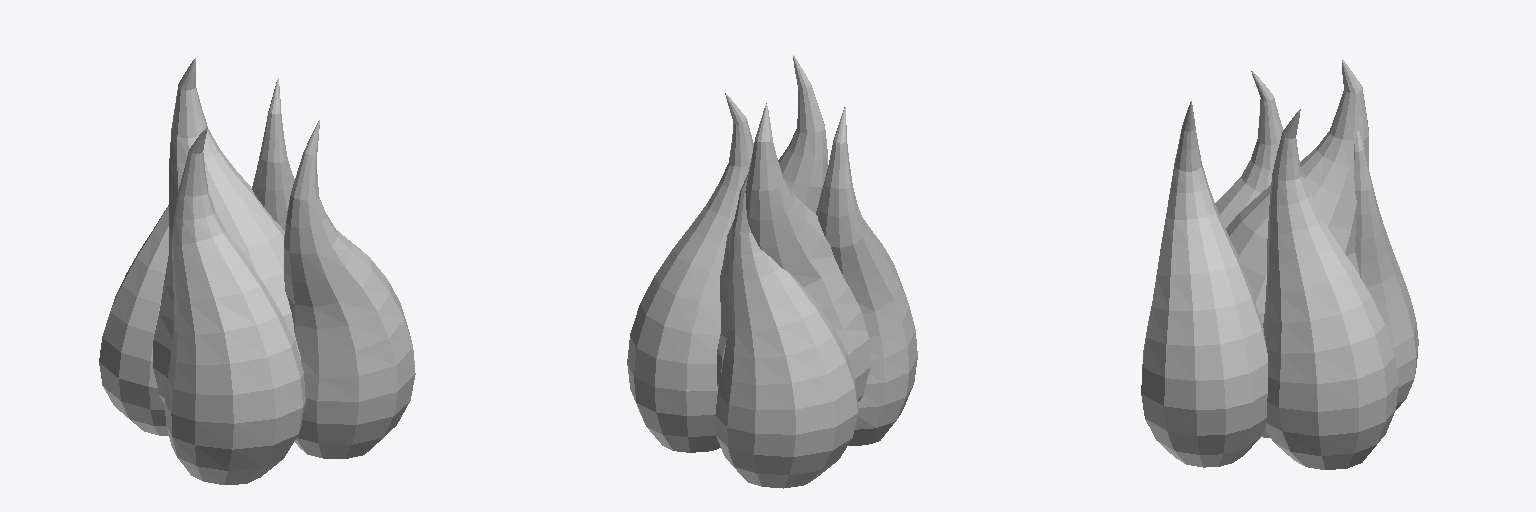
File: fire_000070.obj
The picture shows the model from 3 angles: view 1: azimuth 30°, elevation 25°; view 2: azimuth 150°, elevation 25°; view 3: azimuth 270°, elevation 25°; orthographic projection.
Visible parts, largest first — view 1: flame_NurbsPath.015; view 2: flame_NurbsPath.015; view 3: flame_NurbsPath.015.
Boxes of the visible parts, x1,y1,x2,y2 form: flame_NurbsPath.015: [99, 58, 415, 484]; flame_NurbsPath.015: [627, 55, 917, 488]; flame_NurbsPath.015: [1141, 59, 1418, 469].
Bounding box in the file's own units: 0.7553 × 1.16 × 0.7988.